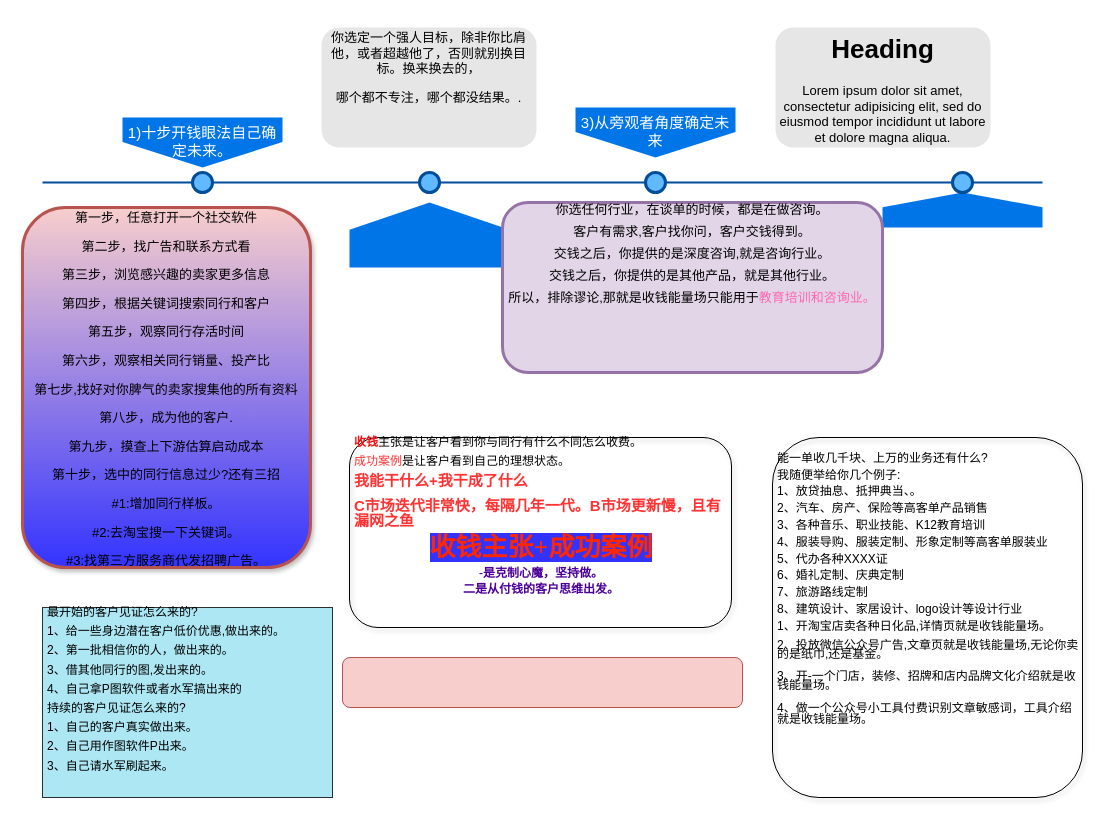
Image size: 1106x822. Some labels were removed from this diagram. The centre of each missing label's shape, as x and y in pixels:
Stage 4: the point at 962,209
客户真的迫切想要理想状态的时候,他会反复说服自己，自我催眠的。 你卖产品,你只要让客户知道你卖的啥，自我催眠的时候有案例素材催眠，就够了。: the point at 542,682
让看到过未来的人，帮你确定未来。: the point at 429,234
